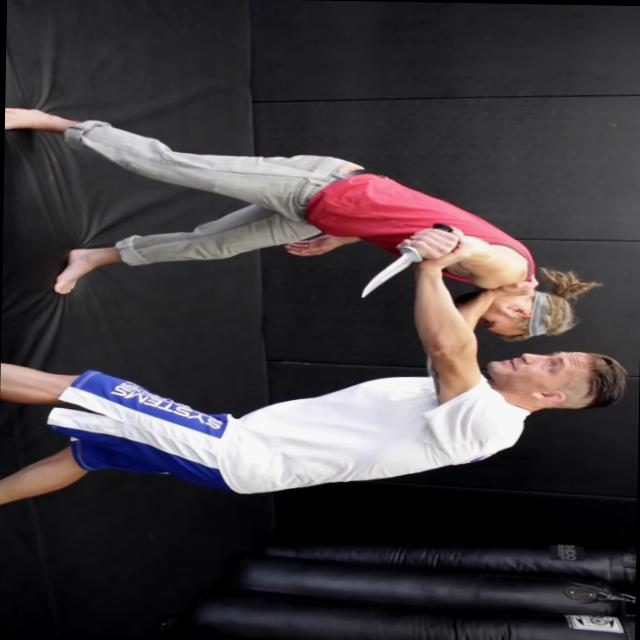knife: (349, 216, 458, 302)
